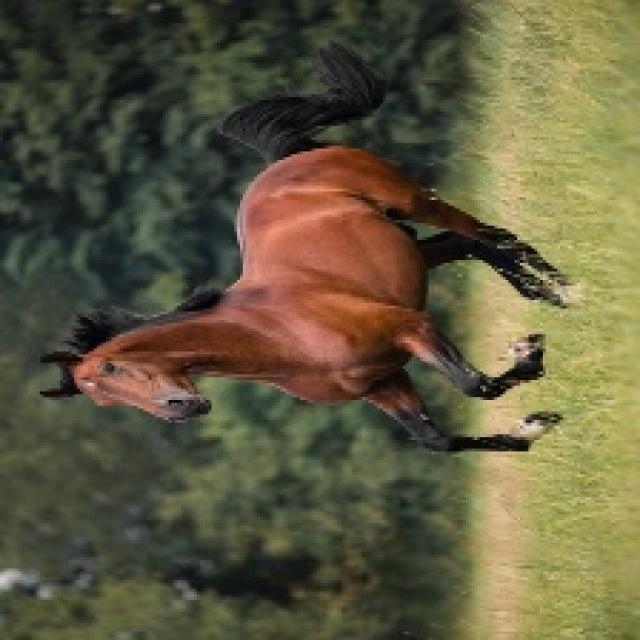animal: (70, 91, 573, 544)
